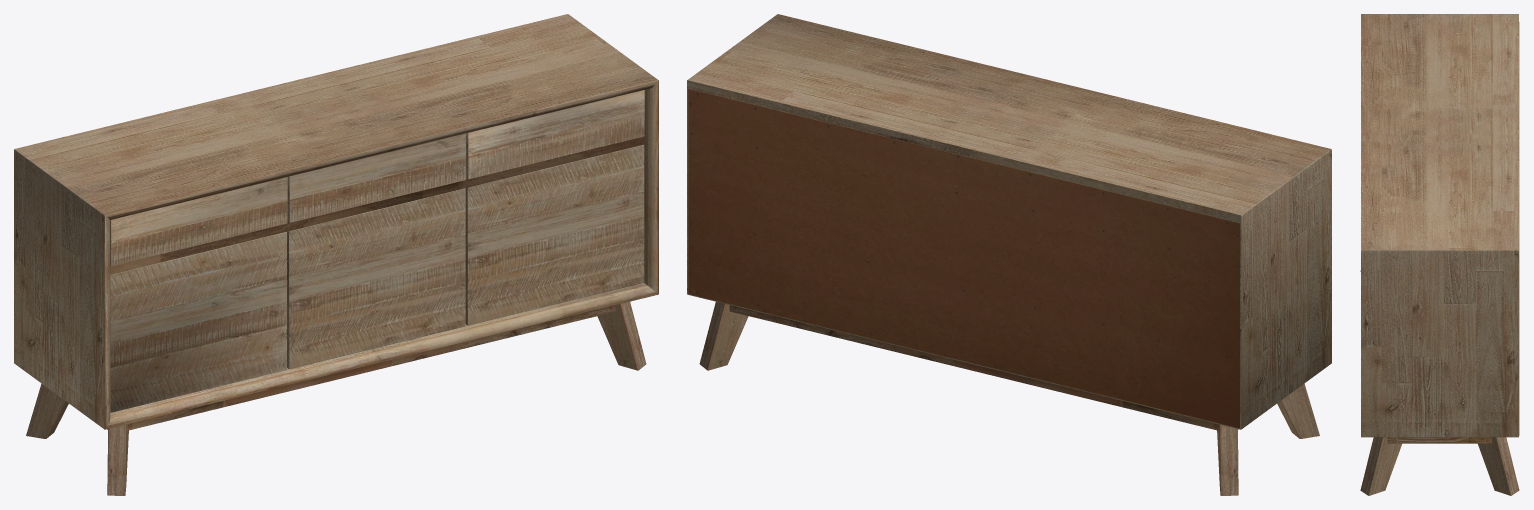
Rendered from B07HSLVMP2.glb.
The picture shows the model from 3 angles, left to right: view 1: azimuth 30°, elevation 25°; view 2: azimuth 150°, elevation 25°; view 3: azimuth 270°, elevation 25°; orthographic projection. The views are drawn at different scales.
Visible parts, largest first — view 1: RootNode; view 2: RootNode; view 3: RootNode.
Part boxes in pixels (x1,y1,x2,y2): RootNode: [14, 14, 658, 495]; RootNode: [687, 14, 1331, 495]; RootNode: [1360, 14, 1519, 495].
Bounding box in the file's own units: 1.6 × 0.7881 × 0.4554.
1 material, 1 textured.
